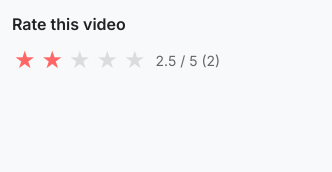
StarRating — MYTUBE-271: 500 error handling › refetches rating summary on submitRating error
Note: User clicks a star to try to change their rating
Click the 5th button "★" at {"x": 135, "y": 60}, box [122,46,148,74]
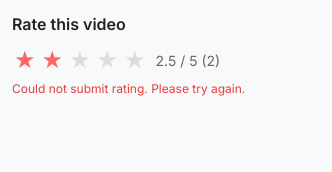
Check: the message "Could not submit rating. Please try again." is shown, box [12,81,245,96]
